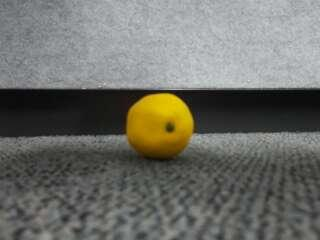lemon: (128, 93, 194, 160)
